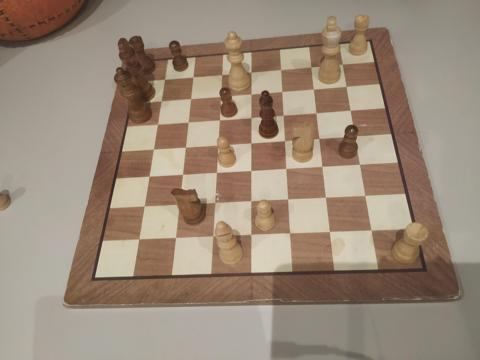xcorner: (134, 235, 145, 246), (287, 229, 298, 240), (152, 118, 163, 129), (171, 234, 182, 244), (209, 232, 219, 243), (369, 226, 379, 237), (139, 202, 150, 212), (175, 200, 185, 211), (285, 195, 296, 205), (324, 193, 334, 204), (357, 160, 368, 170), (148, 144, 159, 154), (317, 133, 327, 144), (352, 131, 363, 141), (184, 116, 194, 127), (215, 114, 226, 124), (280, 110, 291, 120), (314, 107, 324, 118), (217, 90, 227, 101), (159, 73, 170, 83), (188, 71, 199, 81), (218, 68, 228, 79), (278, 63, 288, 74), (340, 58, 350, 69), (248, 231, 258, 241), (328, 228, 338, 238), (211, 199, 221, 209), (248, 197, 258, 207), (363, 192, 373, 202), (144, 172, 154, 182), (178, 170, 188, 180), (213, 168, 223, 178), (248, 166, 258, 176), (284, 164, 294, 174), (320, 162, 330, 172), (181, 142, 191, 152), (214, 140, 224, 150), (248, 138, 258, 148), (282, 136, 292, 146), (248, 112, 258, 122), (348, 105, 358, 115), (156, 95, 166, 105), (186, 93, 196, 103), (248, 88, 258, 98), (279, 86, 289, 96), (311, 83, 321, 93), (344, 81, 354, 91), (248, 66, 258, 76), (309, 61, 319, 71)
